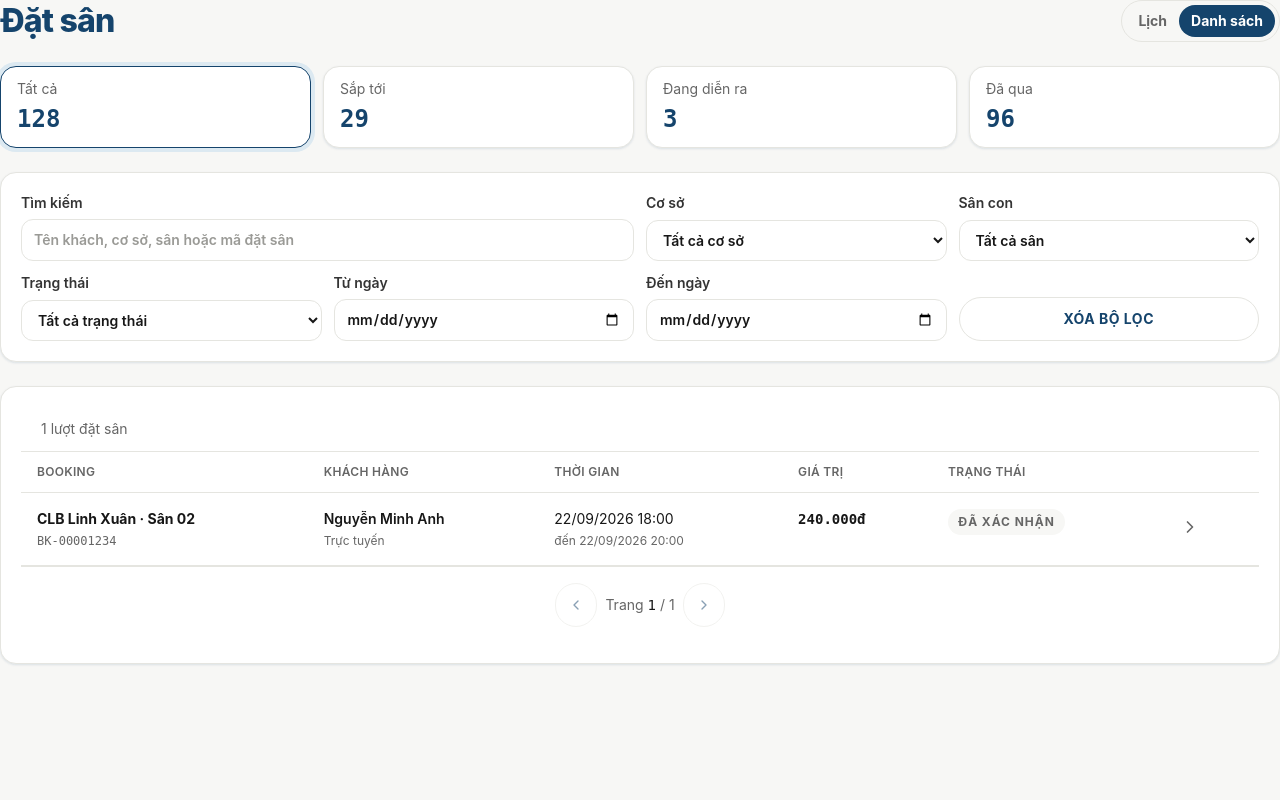
ManageBookingsPage › opens a query-addressable drawer and hides marketplace contact data
Click the button named "Xem chi tiết lượt đặt sân". click: (1190, 527)
box: x1=1172 y1=509 x2=1208 y2=545
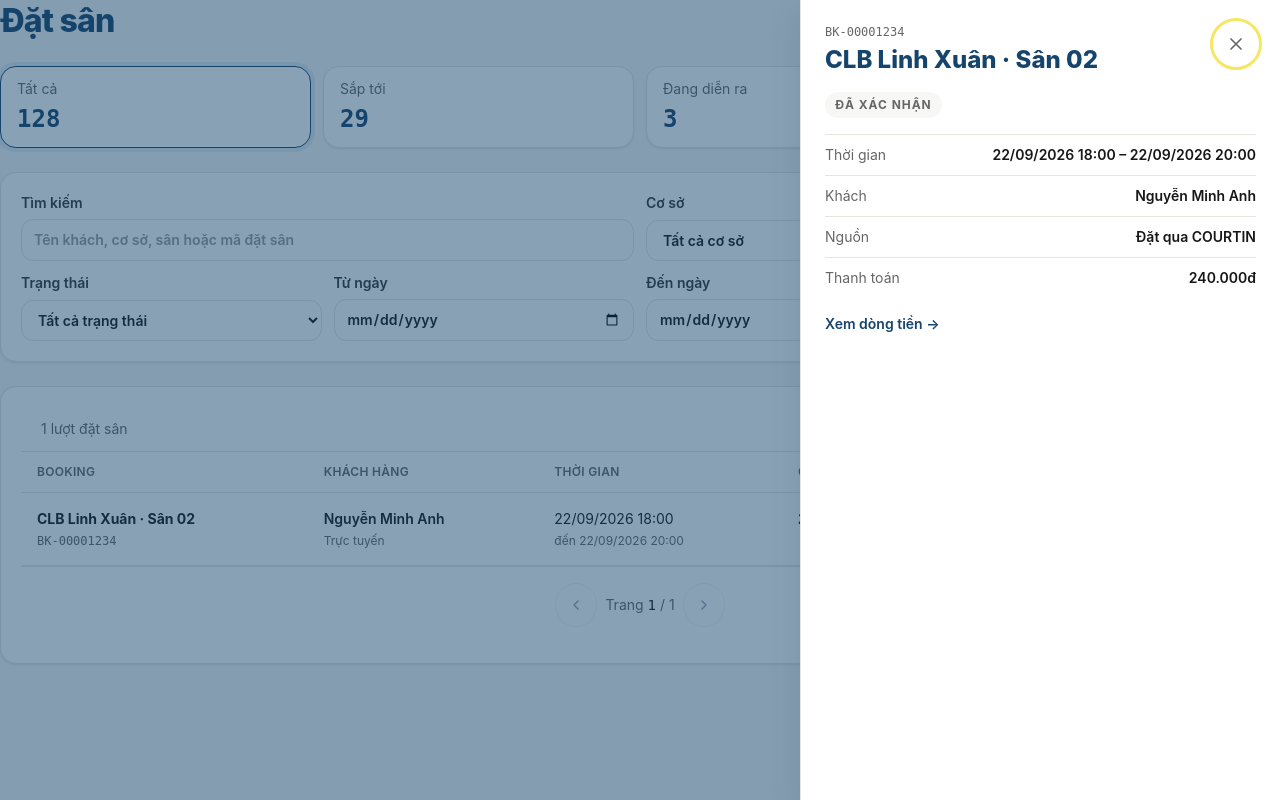
Result: the dialog named "Chi tiết lượt đặt sân" is shown at x1=800 y1=0 x2=1279 y2=799
Result: the heading "CLB Linh Xuân · Sân 02" is shown at x1=825 y1=44 x2=1098 y2=76
Press Escape
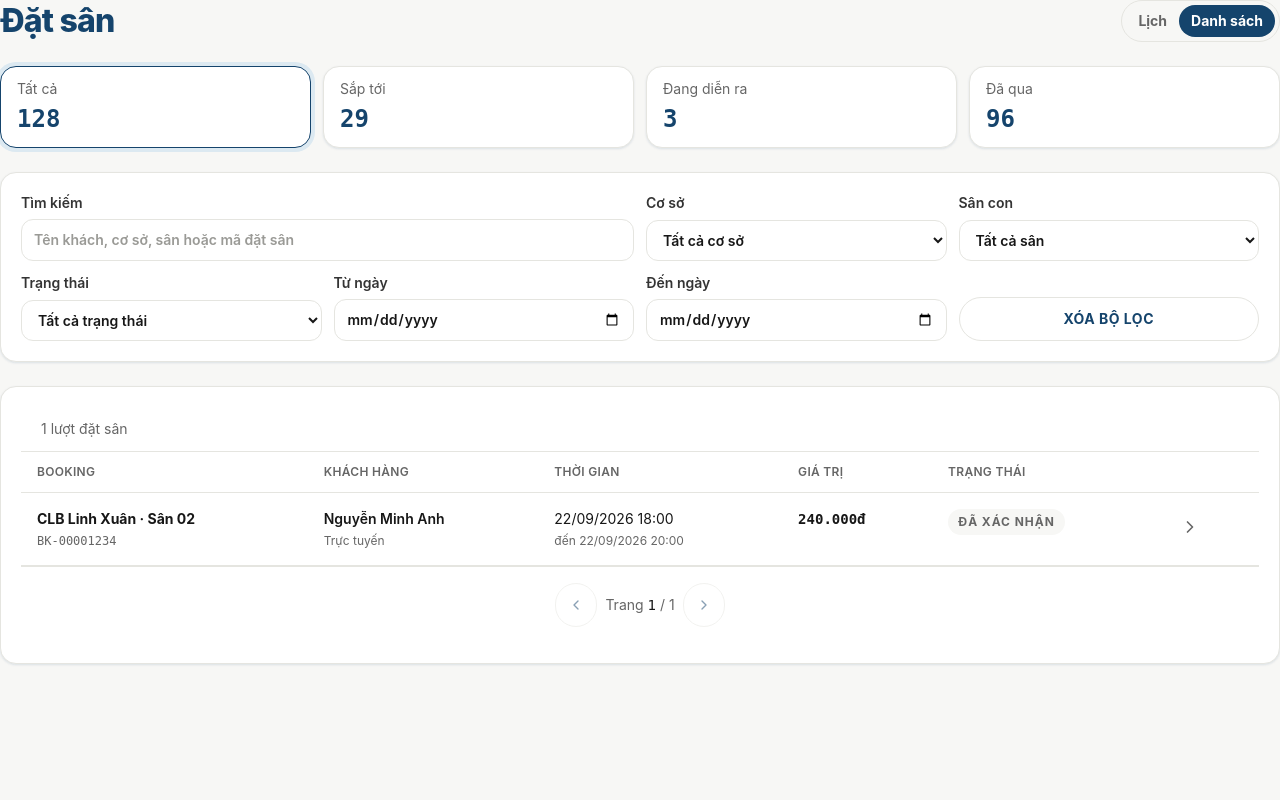
Result: the dialog is gone
